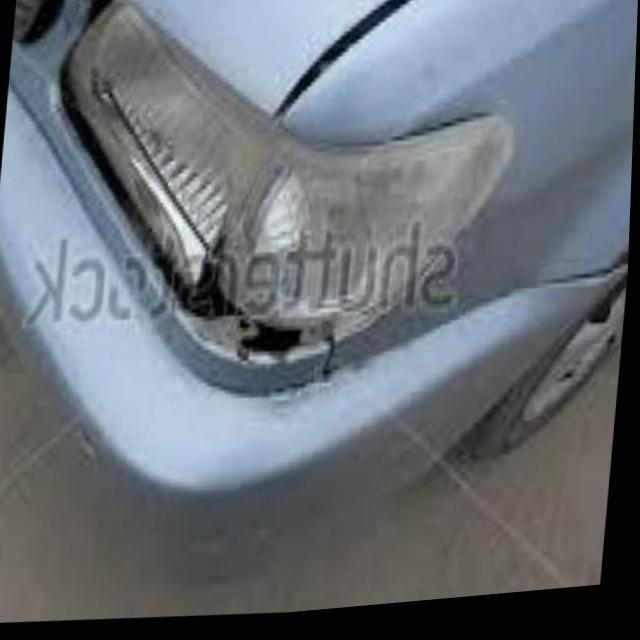dislocated part: (45, 0, 465, 413)
